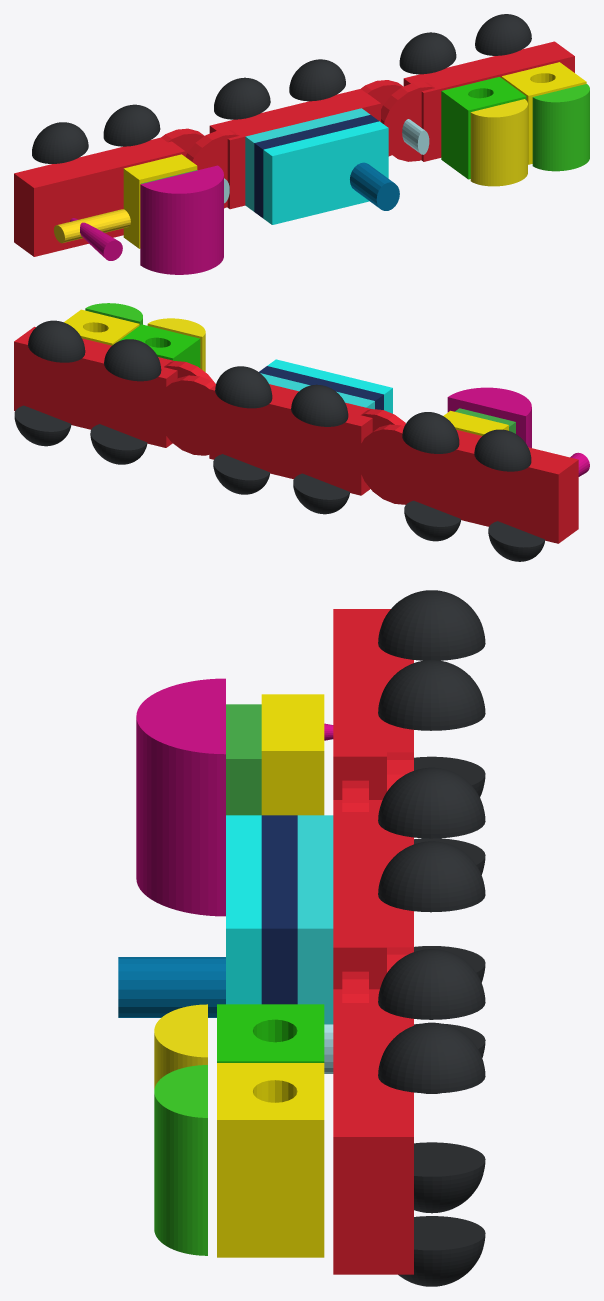
The model's file is tinker.obj.
The picture shows the model from 3 angles, top to bottom: view 1: azimuth 30°, elevation 25°; view 2: azimuth 150°, elevation 25°; view 3: azimuth 270°, elevation 25°; orthographic projection. The views are drawn at different scales.
Parts seen in each view (by area): view 1: group_0_15277357, group_0_2829873, group_0_14093196, group_0_1572858, group_0_3855908, group_0_16575759, group_0_16772864, group_0_2414093, group_0_3729639, group_0_1650274, group_0_30377, group_0_16768282 (+1 smaller); view 2: group_0_15277357, group_0_2829873, group_0_14093196, group_0_16772864, group_0_2414093, group_0_1572858, group_0_1650274, group_0_16575759, group_0_3855908, group_0_3729639, group_0_4634441; view 3: group_0_2829873, group_0_15277357, group_0_16772864, group_0_14093196, group_0_3855908, group_0_3729639, group_0_1650274, group_0_1572858, group_0_2414093, group_0_30377, group_0_4634441, group_0_16575759.
Boxes of the visible parts, left/top/right/bottom form: group_0_15277357: left=14, top=41, right=574, bottom=256; group_0_2829873: left=32, top=14, right=531, bottom=163; group_0_14093196: left=70, top=165, right=223, bottom=274; group_0_1572858: left=263, top=121, right=388, bottom=224; group_0_3855908: left=532, top=84, right=589, bottom=171; group_0_16575759: left=470, top=99, right=527, bottom=186; group_0_16772864: left=123, top=62, right=586, bottom=248; group_0_2414093: left=441, top=77, right=526, bottom=179; group_0_3729639: left=245, top=108, right=370, bottom=211; group_0_1650274: left=254, top=115, right=378, bottom=218; group_0_30377: left=350, top=162, right=399, bottom=210; group_0_16768282: left=54, top=209, right=130, bottom=243; group_0_15277357: left=14, top=326, right=578, bottom=543; group_0_2829873: left=14, top=320, right=544, bottom=561; group_0_14093196: left=447, top=387, right=589, bottom=476; group_0_16772864: left=64, top=309, right=508, bottom=435; group_0_2414093: left=118, top=324, right=200, bottom=367; group_0_1572858: left=267, top=359, right=392, bottom=413; group_0_1650274: left=259, top=366, right=383, bottom=409; group_0_16575759: left=147, top=318, right=205, bottom=371; group_0_3855908: left=85, top=303, right=142, bottom=325; group_0_3729639: left=260, top=373, right=374, bottom=409; group_0_4634441: left=455, top=408, right=515, bottom=433; group_0_2829873: left=378, top=590, right=485, bottom=1286; group_0_15277357: left=333, top=609, right=413, bottom=1274; group_0_16772864: left=217, top=694, right=324, bottom=1257; group_0_14093196: left=136, top=678, right=333, bottom=916; group_0_3855908: left=154, top=1065, right=207, bottom=1255; group_0_3729639: left=297, top=815, right=333, bottom=1024; group_0_1650274: left=261, top=815, right=297, bottom=1004; group_0_1572858: left=226, top=815, right=261, bottom=1004; group_0_2414093: left=217, top=1004, right=324, bottom=1062; group_0_30377: left=118, top=957, right=225, bottom=1017; group_0_4634441: left=226, top=704, right=261, bottom=815; group_0_16575759: left=154, top=1004, right=207, bottom=1088.
Size of the model in its own units: 140 by 30.05 by 41.
